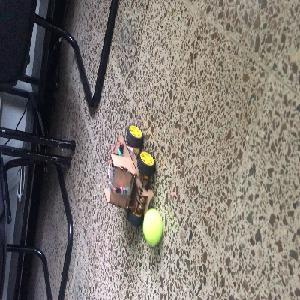Ball: (142, 209, 164, 245)
Robot: (103, 124, 157, 226)
